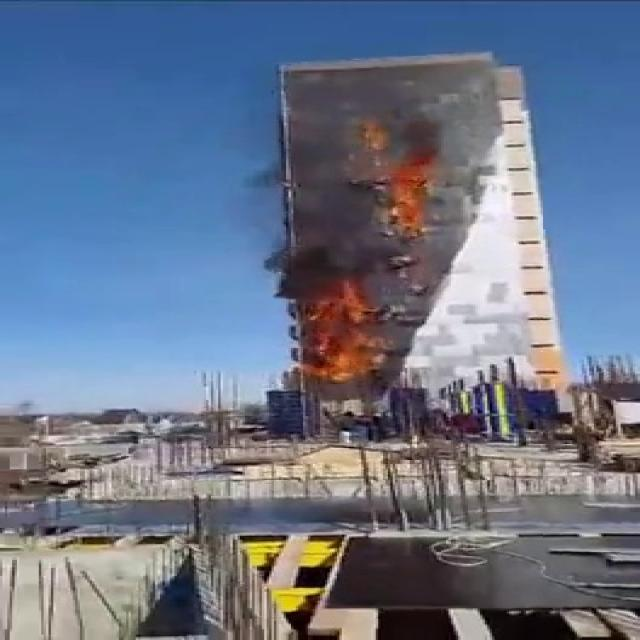Fire: (343, 98, 450, 240), (290, 274, 394, 386)
